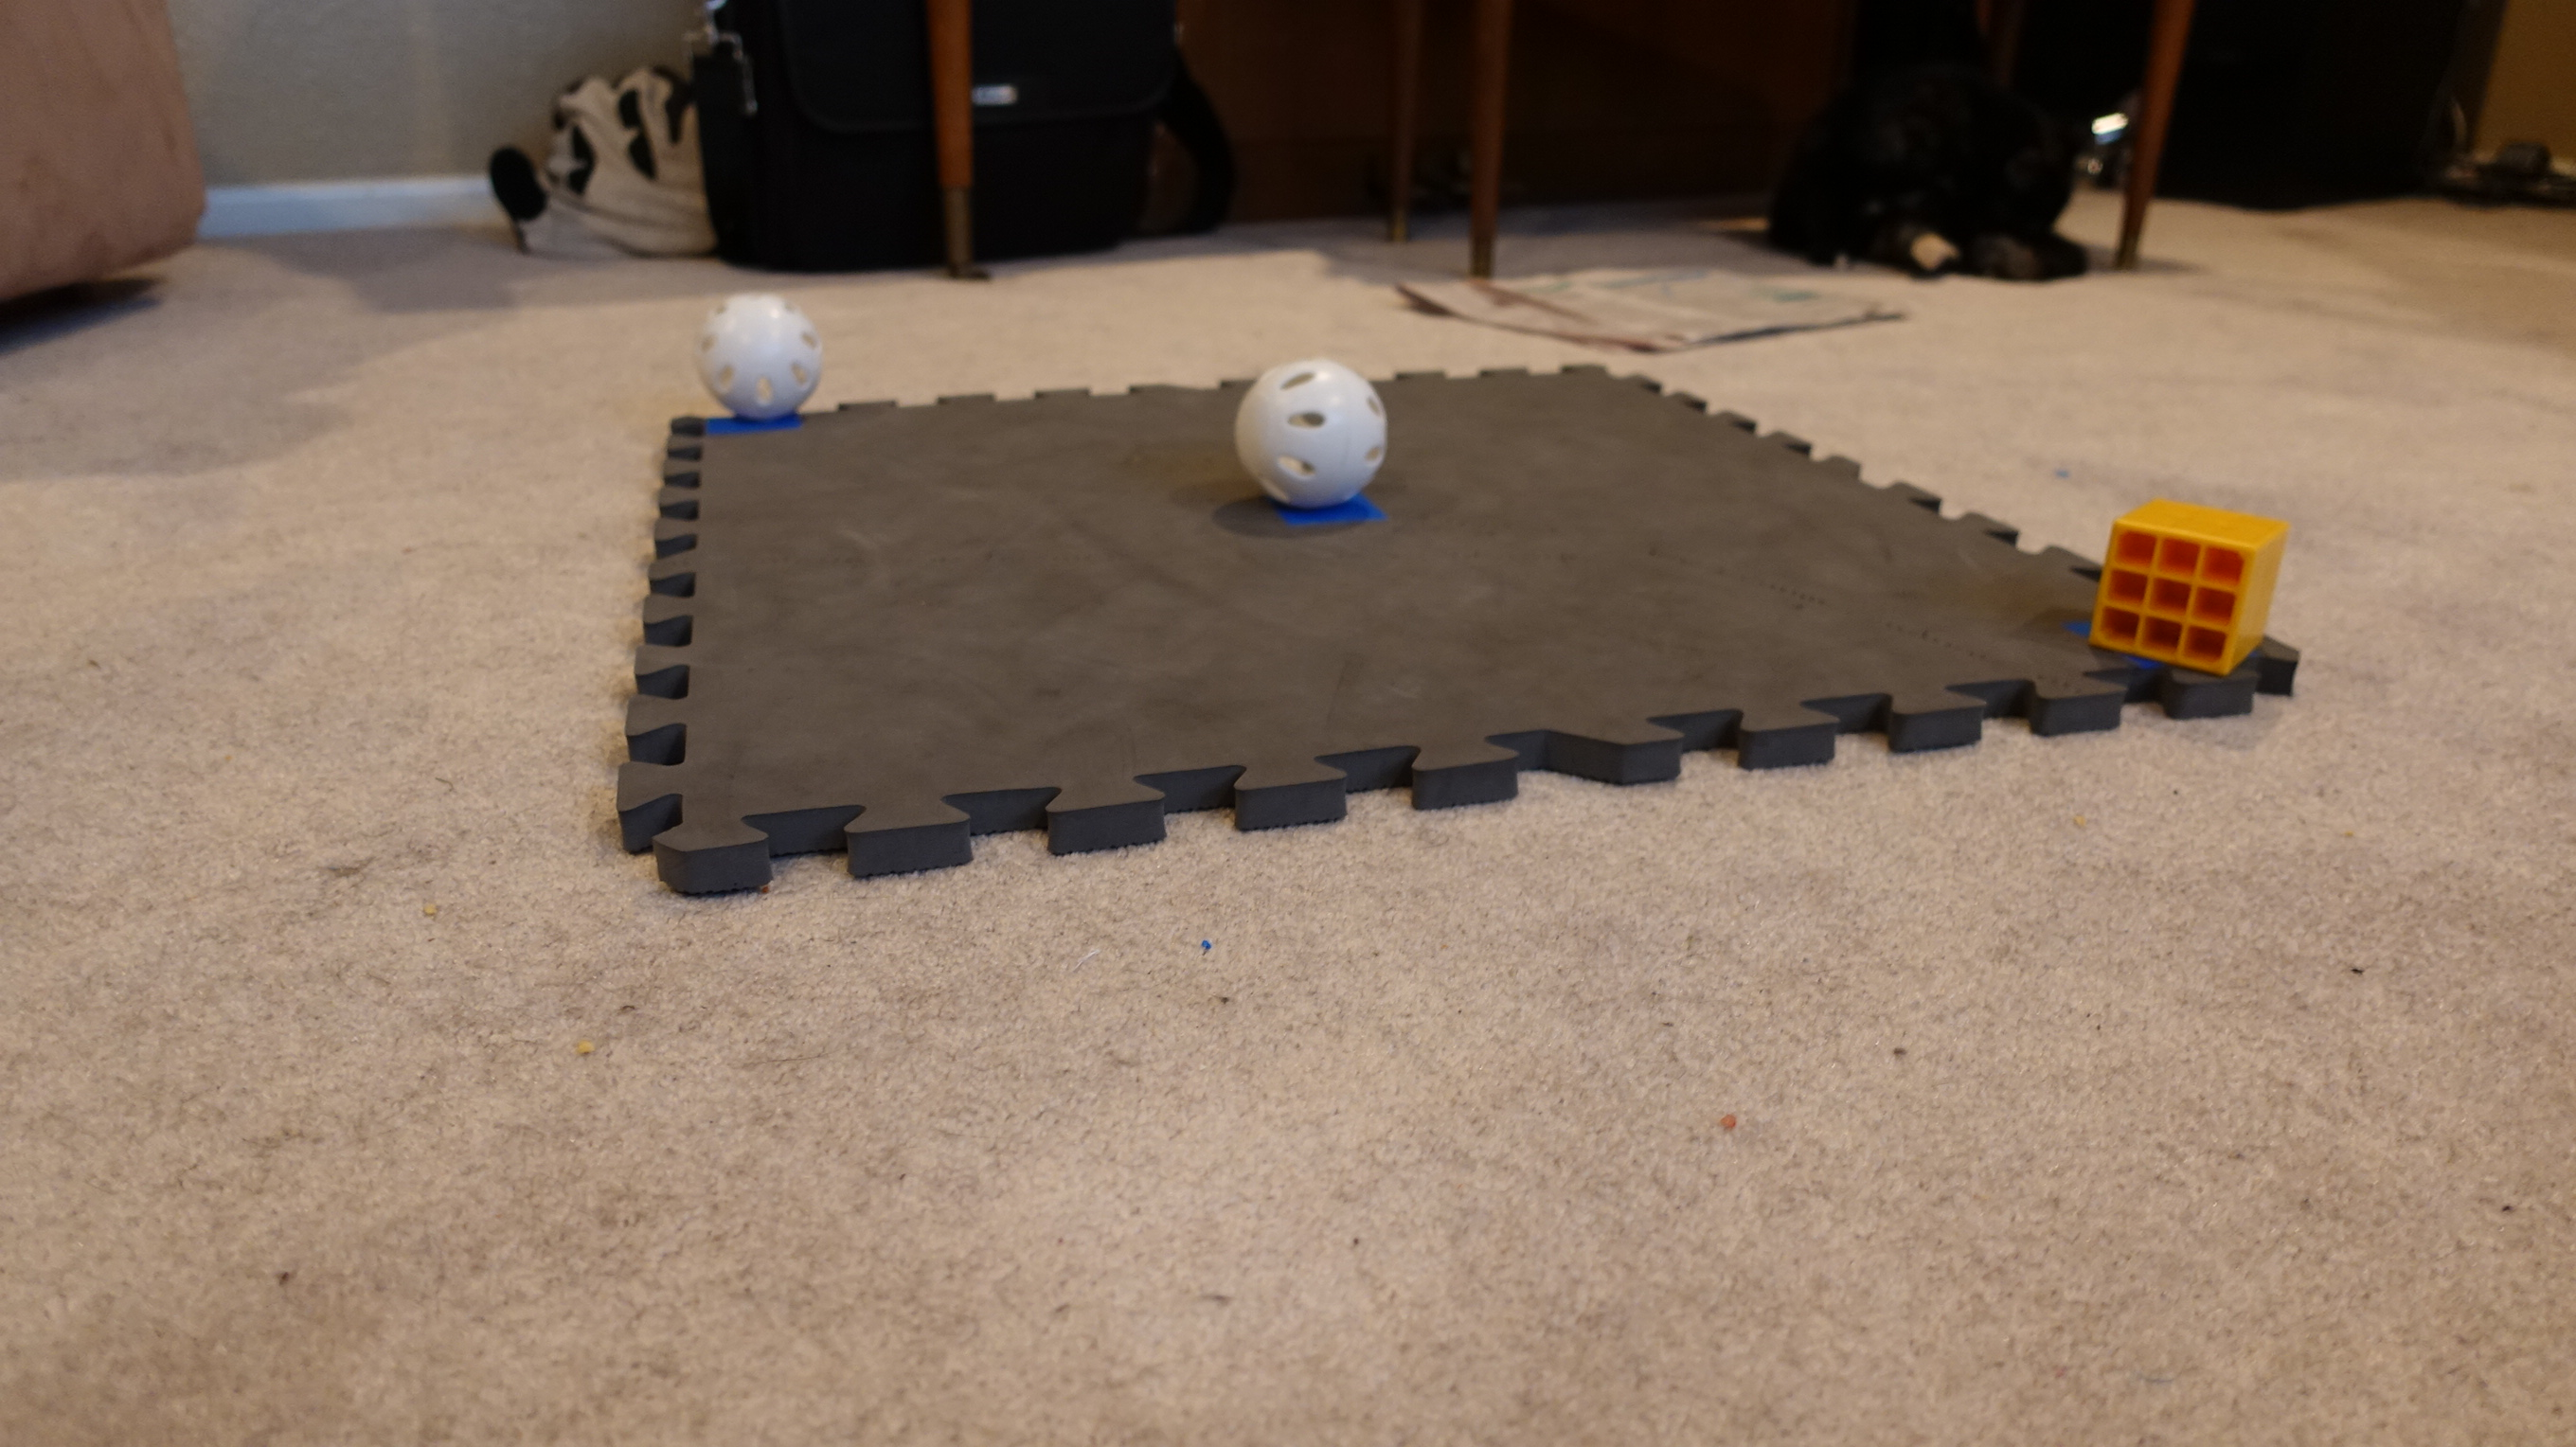gold: (2079, 492, 2296, 678)
silver: (1233, 347, 1391, 517), (692, 287, 821, 430)
